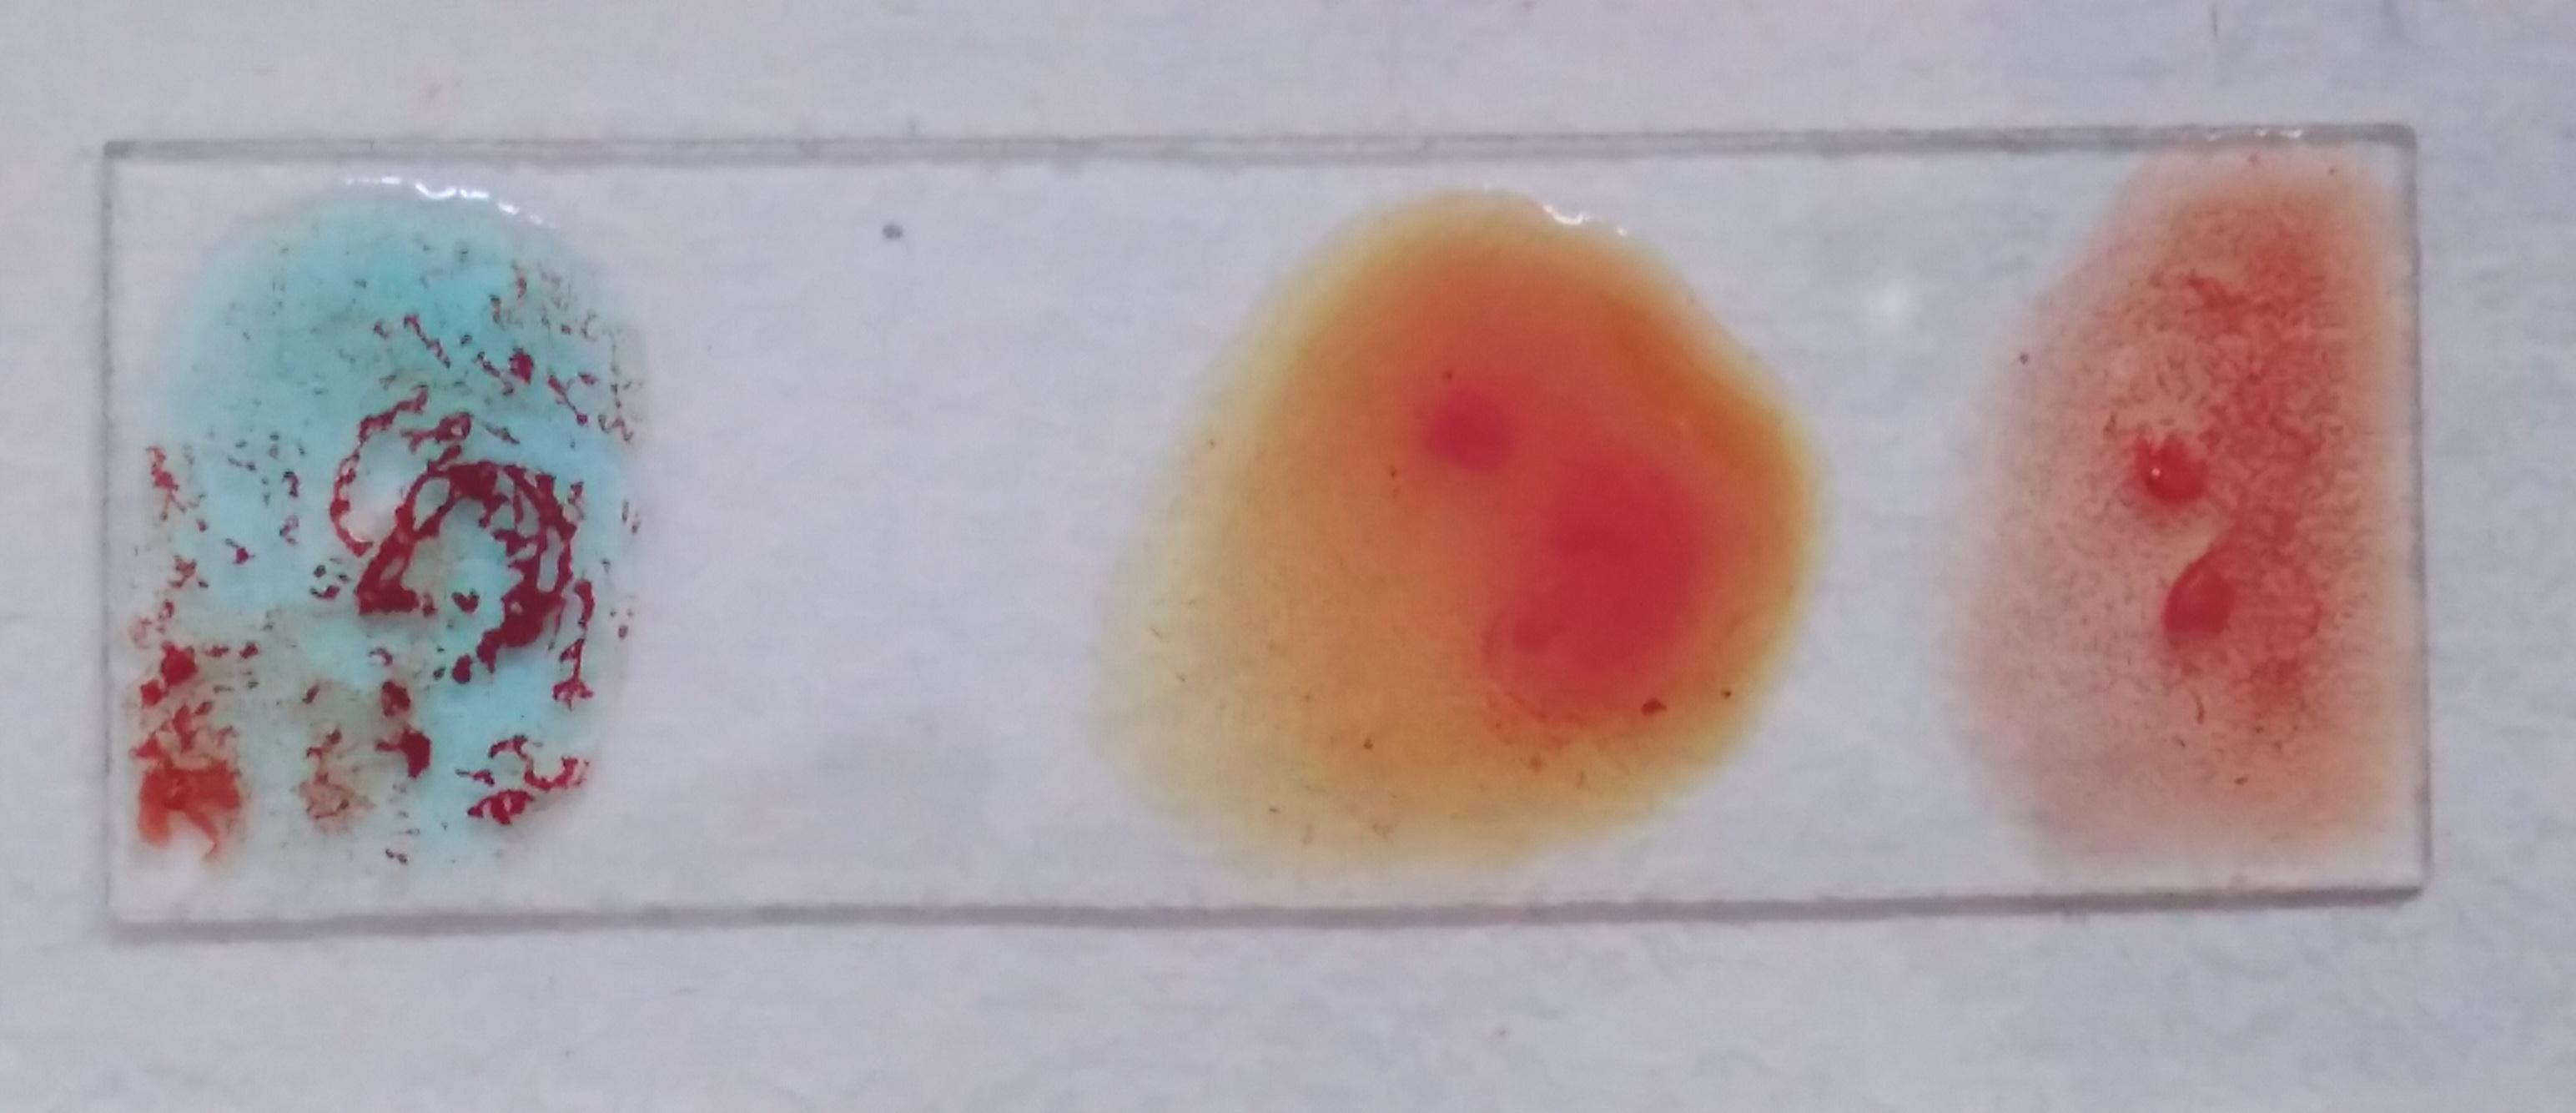A: (115, 184, 632, 894)
D: (1998, 153, 2397, 843)
